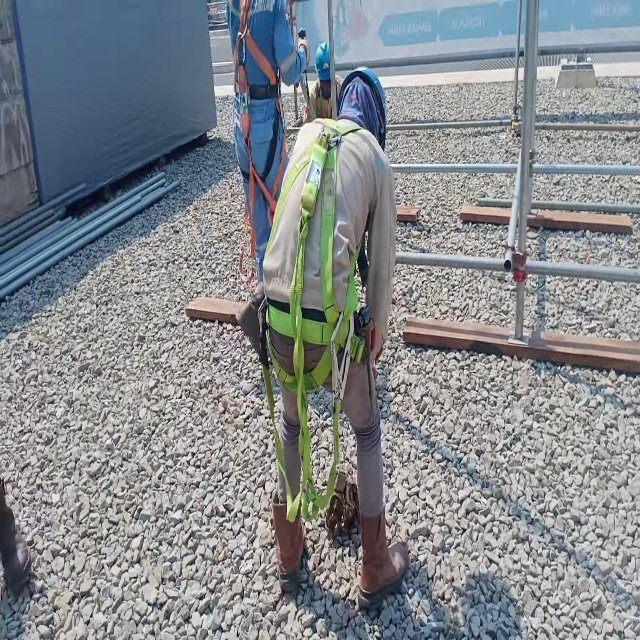Arnes_seguridad: (255, 117, 366, 528), (229, 0, 286, 287)
